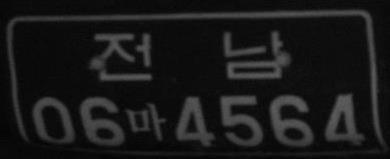0: (30, 96, 76, 144)
4: (323, 93, 366, 146), (174, 95, 214, 145)
5: (219, 94, 263, 146)
6: (78, 95, 126, 145), (268, 94, 314, 146)
마: (127, 102, 166, 141)
전남_D: (93, 29, 284, 83)
